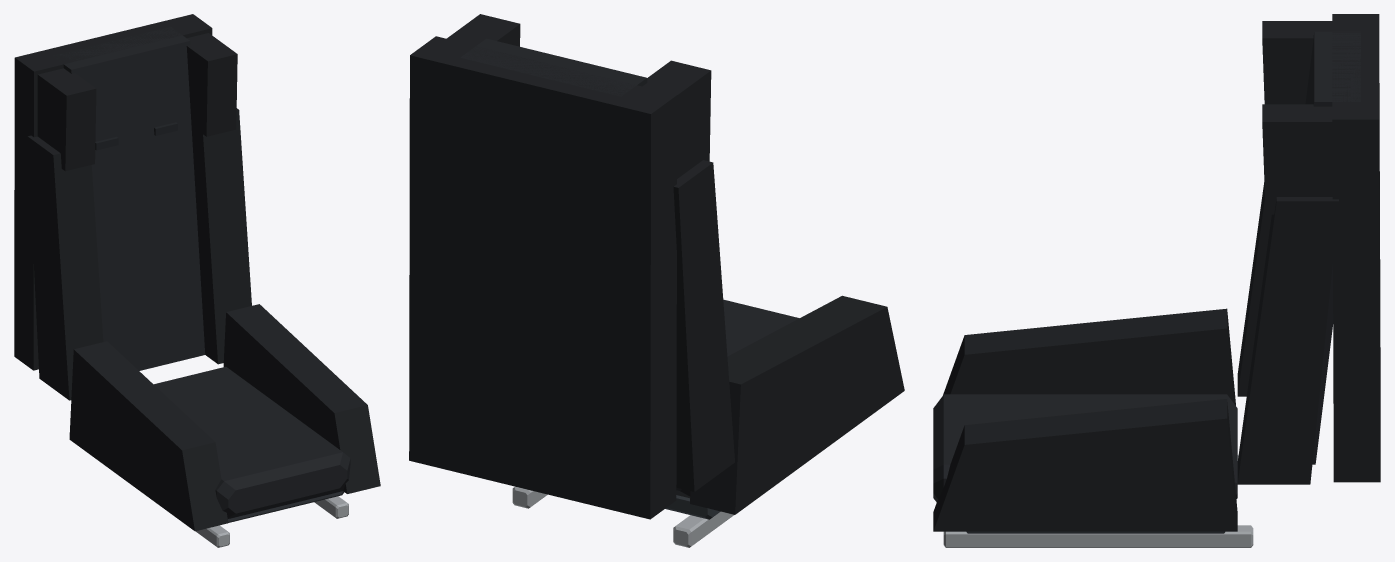
The model's file is ridgeback_4x4.glb.
3 views of the same model, side by side, from view 1: azimuth 30°, elevation 25°; view 2: azimuth 150°, elevation 25°; view 3: azimuth 270°, elevation 25° (orthographic). The views are drawn at different scales.
Visible parts, largest first — view 1: model; view 2: model; view 3: model.
Part boxes in pixels (x1,y1,x2,y2): model: [14, 14, 380, 547]; model: [409, 14, 904, 547]; model: [933, 14, 1380, 547].
Size of the model in its own units: 0.5 by 0.94 by 0.86.
4 materials, 1 textured.
